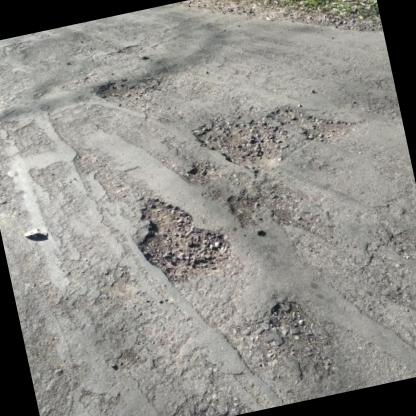pothole: (124, 181, 239, 292), (186, 98, 293, 180), (263, 291, 336, 383), (265, 89, 359, 153), (224, 180, 309, 240), (90, 72, 152, 116), (183, 156, 226, 186)
